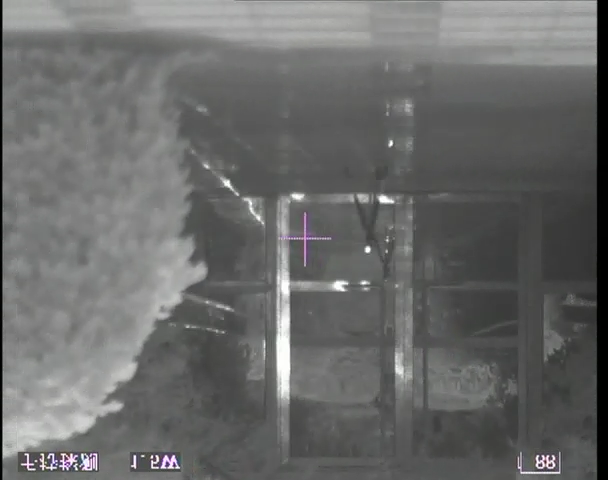my: (363, 245, 373, 255)
